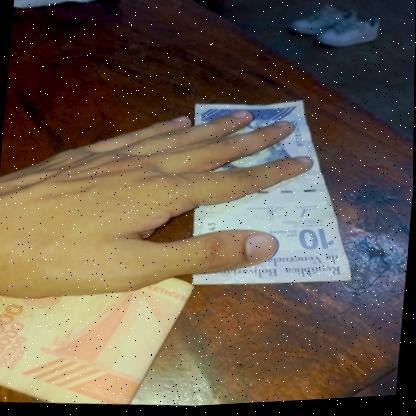ten-front-vef: (176, 95, 367, 300)
